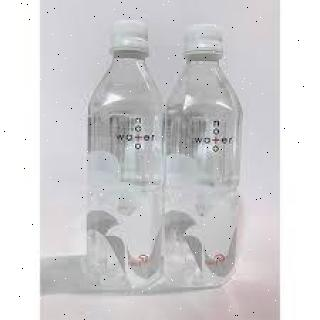Plastic-bottle: (84, 16, 168, 296), (160, 24, 246, 293)
